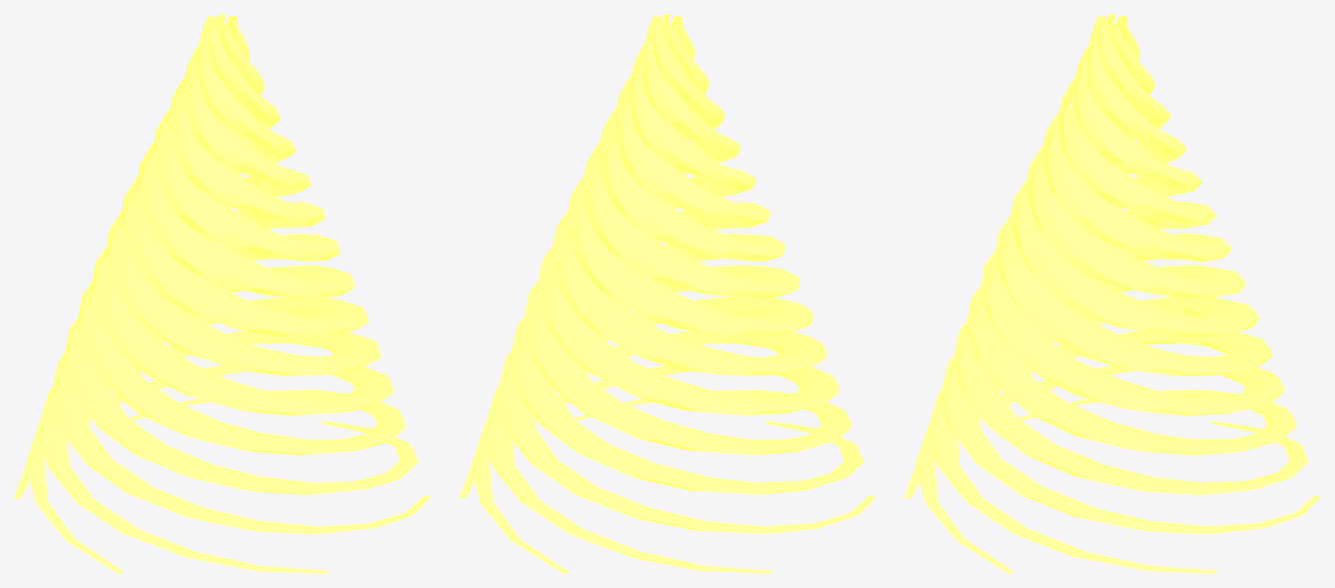
File: incendio_vortex.glb
3 renders of one model, left to right at view 1: azimuth 30°, elevation 25°; view 2: azimuth 150°, elevation 25°; view 3: azimuth 270°, elevation 25°, orthographic.
Visible parts, largest first — view 1: IncendioFireVortex; view 2: IncendioFireVortex; view 3: IncendioFireVortex.
Part boxes in pixels (left/top/right/bottom): IncendioFireVortex: left=14, top=14, right=430, bottom=573; IncendioFireVortex: left=459, top=14, right=875, bottom=573; IncendioFireVortex: left=904, top=14, right=1320, bottom=573.
Bounding box in the file's own units: 1.99 × 2.6 × 2.06.
